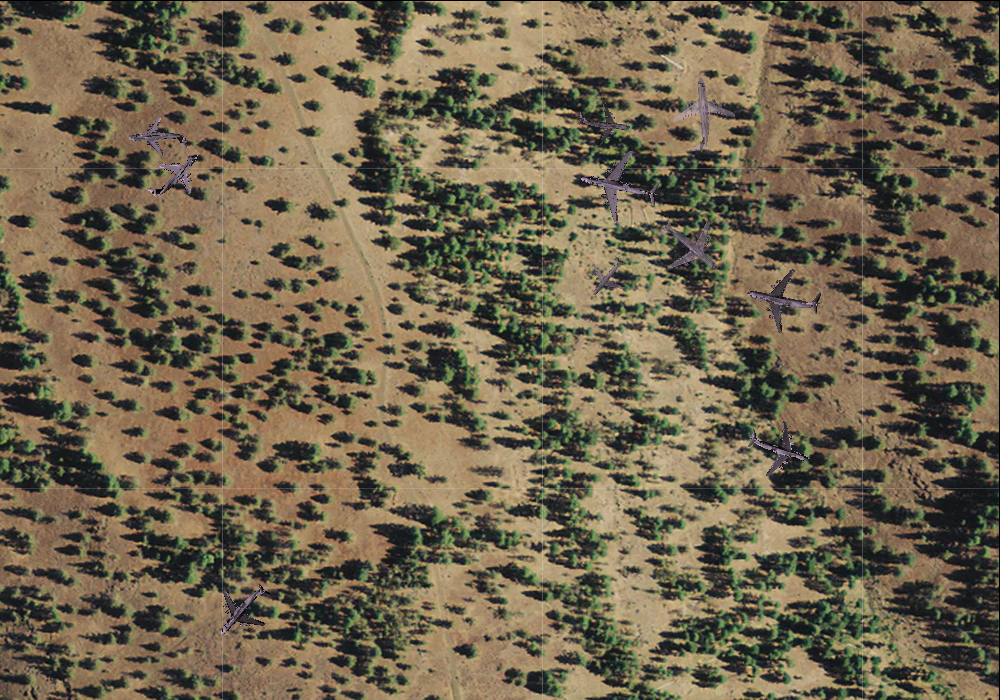plane: (642, 199, 738, 295), (572, 141, 666, 230), (198, 566, 287, 656), (740, 256, 827, 341), (133, 134, 214, 215), (739, 409, 819, 487), (663, 74, 740, 154), (576, 245, 638, 307), (126, 111, 189, 165), (575, 95, 633, 150)
